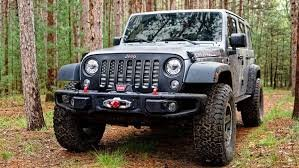mobil: (49, 9, 274, 162)
